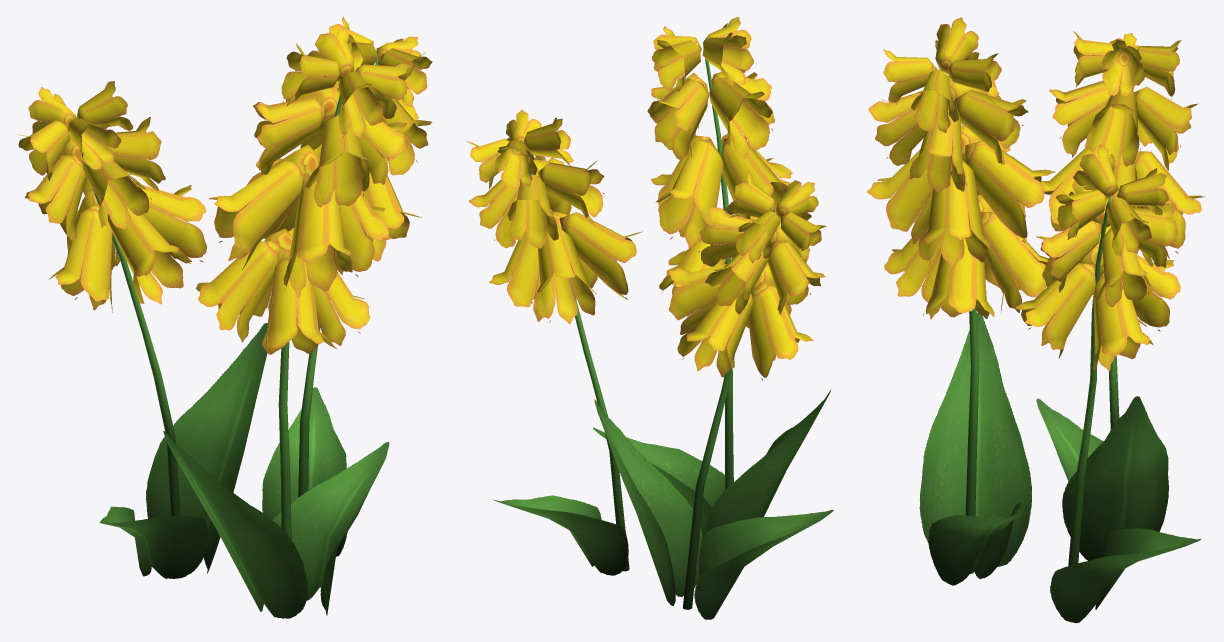
The model's file is Flower_4_Group.gltf.
3 renders of one model, left to right at view 1: azimuth 30°, elevation 25°; view 2: azimuth 150°, elevation 25°; view 3: azimuth 270°, elevation 25°, orthographic. The views are drawn at different scales.
Visible parts, largest first — view 1: Flower_4_Group; view 2: Flower_4_Group; view 3: Flower_4_Group.
Part boxes in pixels (x1,y1,x2,y2): Flower_4_Group: (17, 17, 432, 618); Flower_4_Group: (467, 17, 833, 619); Flower_4_Group: (867, 17, 1205, 623).
Size of the model in its own units: 1.78 by 2.49 by 1.37.
2 materials, 2 textured.
